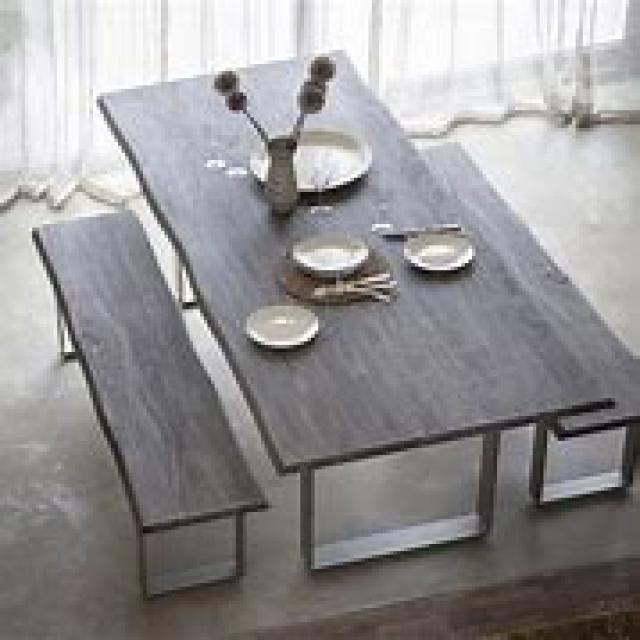chair: (29, 207, 268, 598)
table: (93, 46, 636, 569)
